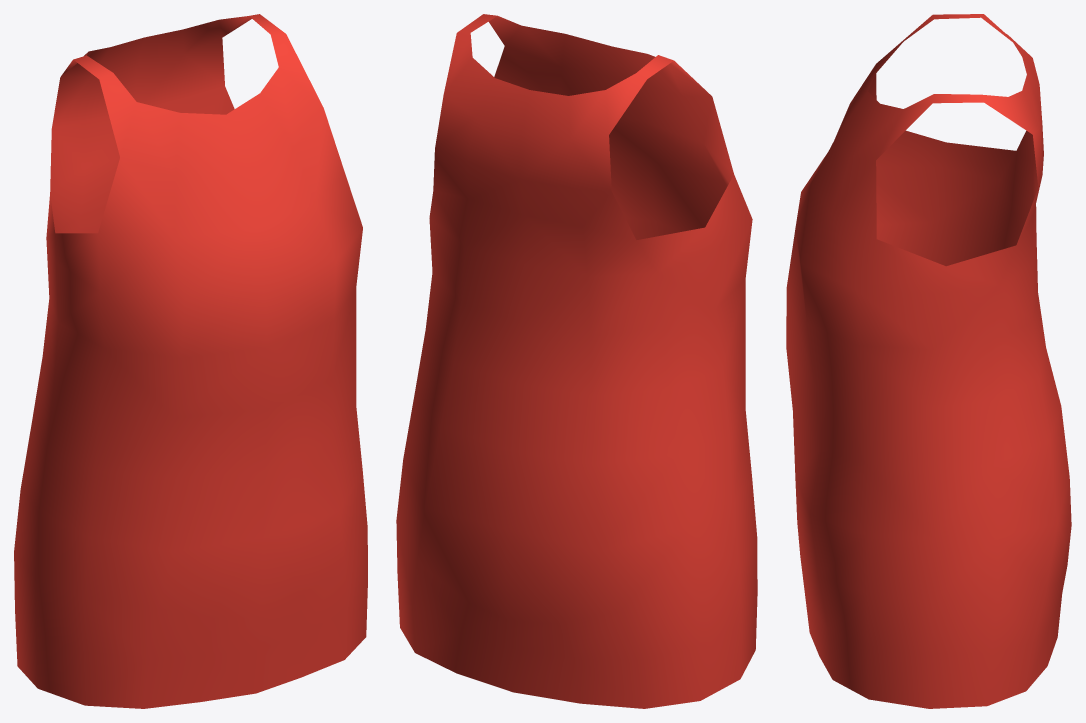
The model's file is Outerwear_Red_005.glb.
3 renders of one model, left to right at view 1: azimuth 30°, elevation 25°; view 2: azimuth 150°, elevation 25°; view 3: azimuth 270°, elevation 25°, orthographic. The views are drawn at different scales.
Parts seen in each view (by area): view 1: Outerwear_Red_005; view 2: Outerwear_Red_005; view 3: Outerwear_Red_005.
Part boxes in pixels (x1,y1,x2,y2): Outerwear_Red_005: (14, 14, 367, 708); Outerwear_Red_005: (396, 14, 757, 708); Outerwear_Red_005: (786, 14, 1071, 708).
Size of the model in its own units: 0.4681 by 0.8466 by 0.3763.
Materials: 1 (1 with a texture image).
